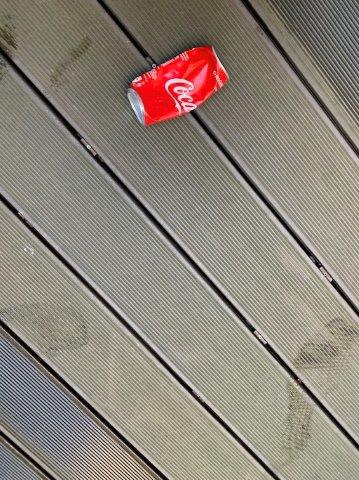kaleng: (128, 47, 227, 124)
